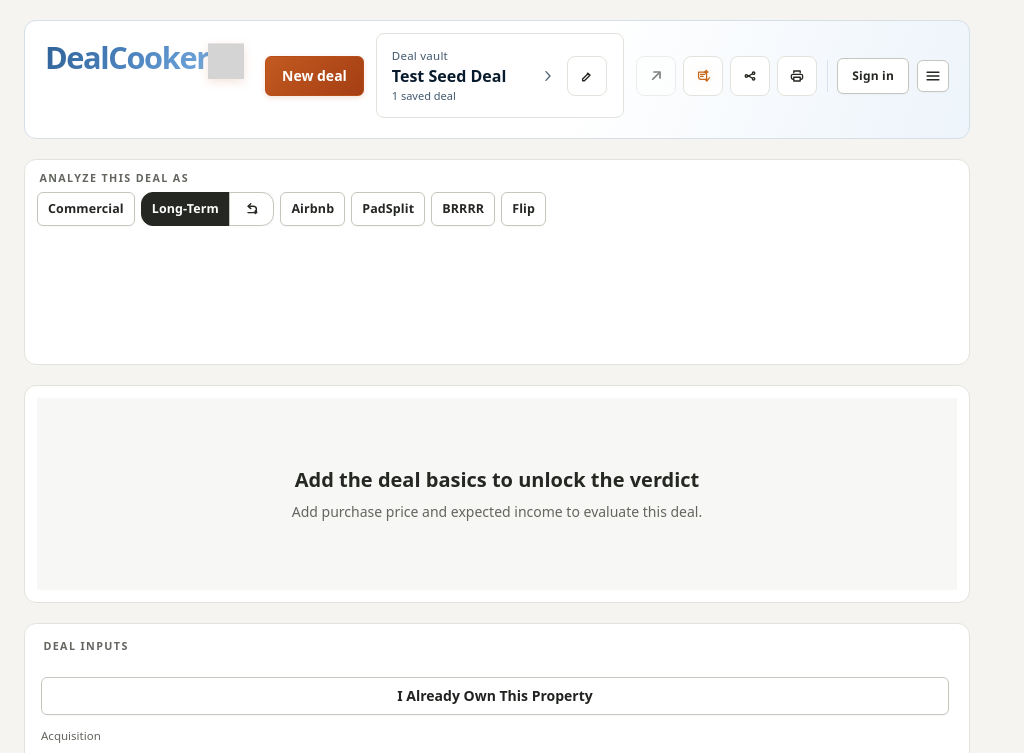
Scenario: dashboard integration › discards an untouched blank new deal when the identity modal is closed
The width and height of the screenshot is (1024, 753).
Expected: the button with aria-label "Open deal vault" shows "Test Seed Deal", [392,47,556,105]
Expected: the button with aria-label "Open deal vault" shows "1 saved deal", [392,47,556,105]
Step 1. Click the button "New deal" → (314, 76), box [265,56,364,96]
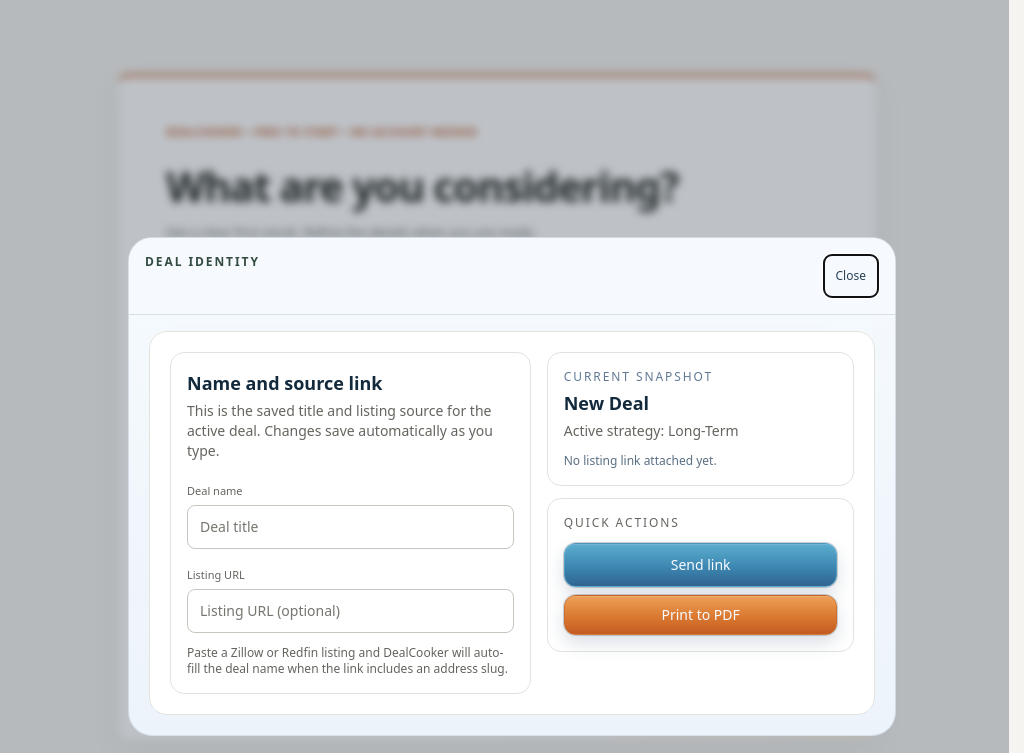
Step 2. Click the button "Close" → (851, 276), box [822,254,879,298]
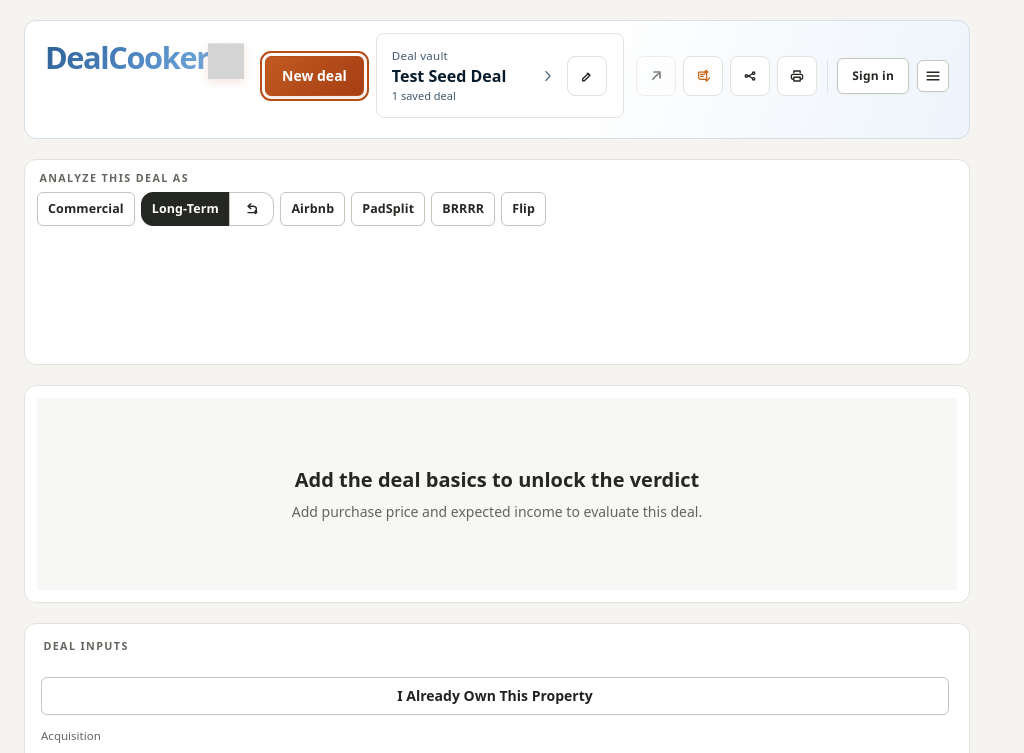
Expected: the heading "Deal identity" is gone
Expected: the button with aria-label "Open deal vault" shows "Test Seed Deal", [392,47,556,105]
Expected: the button with aria-label "Open deal vault" shows "1 saved deal", [392,47,556,105]
